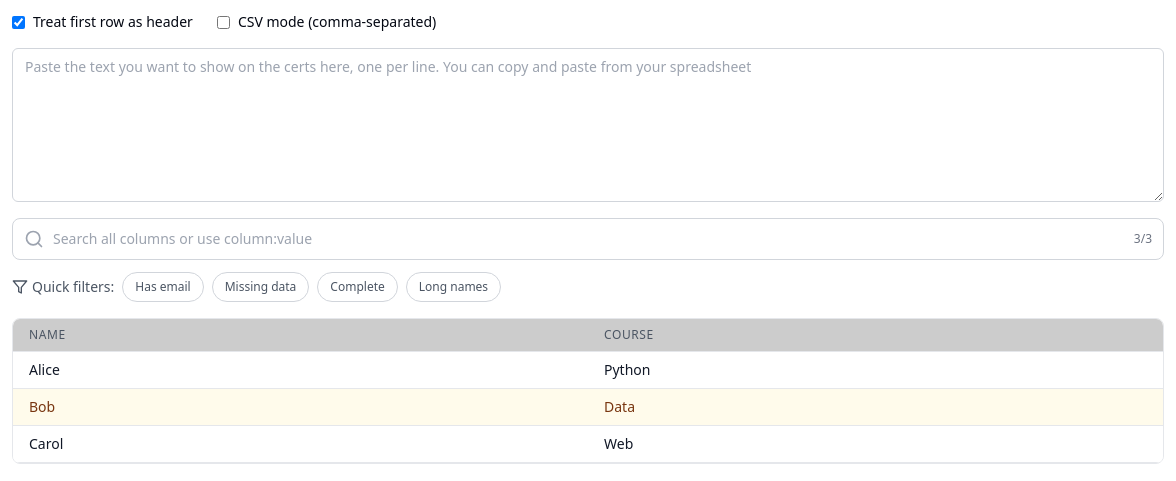
Test: DataPanelWithSearch filtering › highlights the current entry by its original index while filtered
The image size is (1176, 481).
Type "bob" into the dropdown named "Search entries".
click(588, 239); type("bob")  # box [12,218,1164,260]
Wait 400 ms
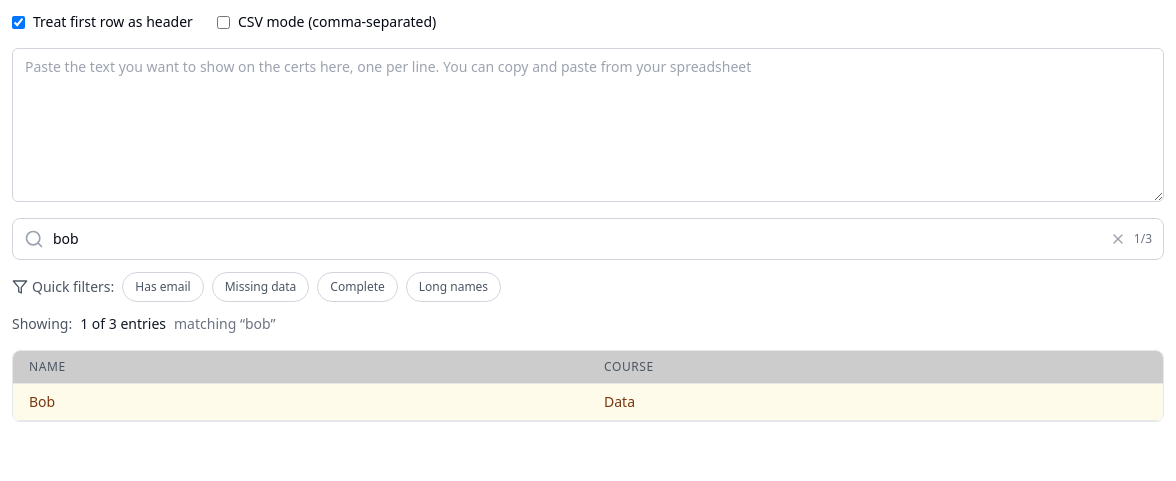
expect the text "Alice" is gone: met
